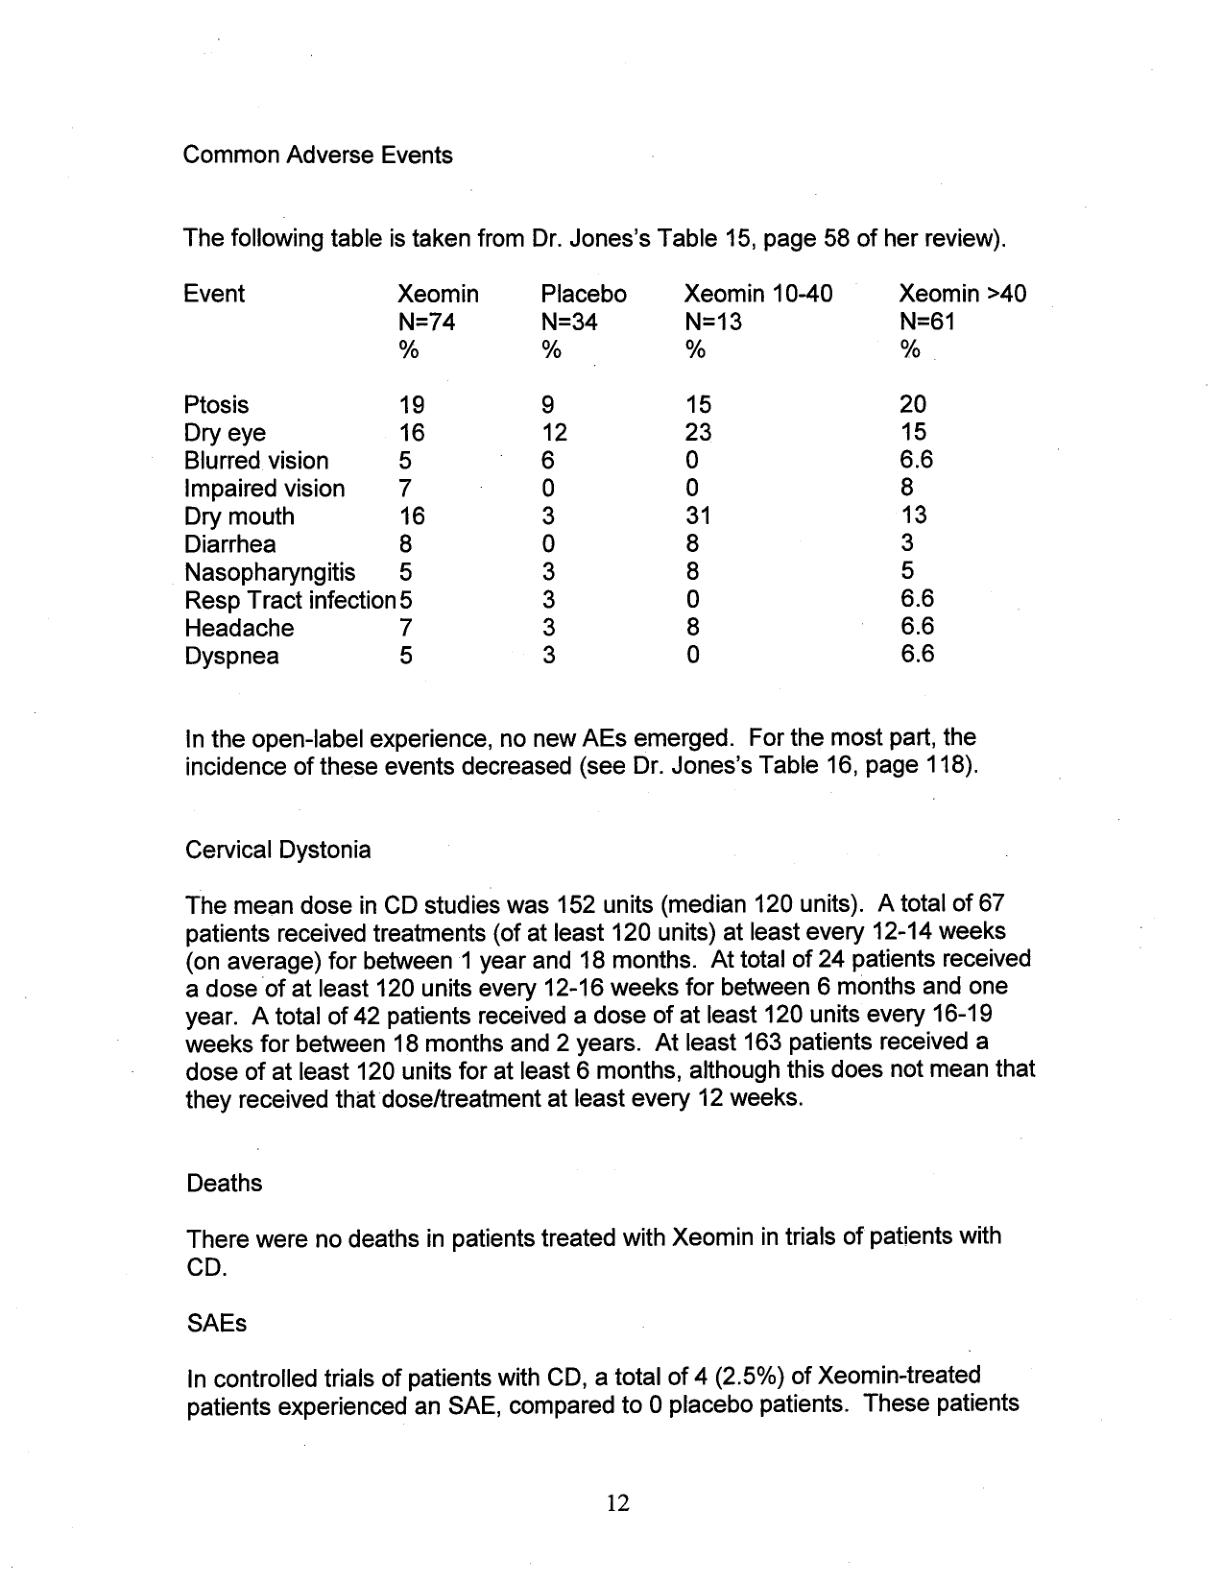nolines: (181, 277, 1031, 672)
